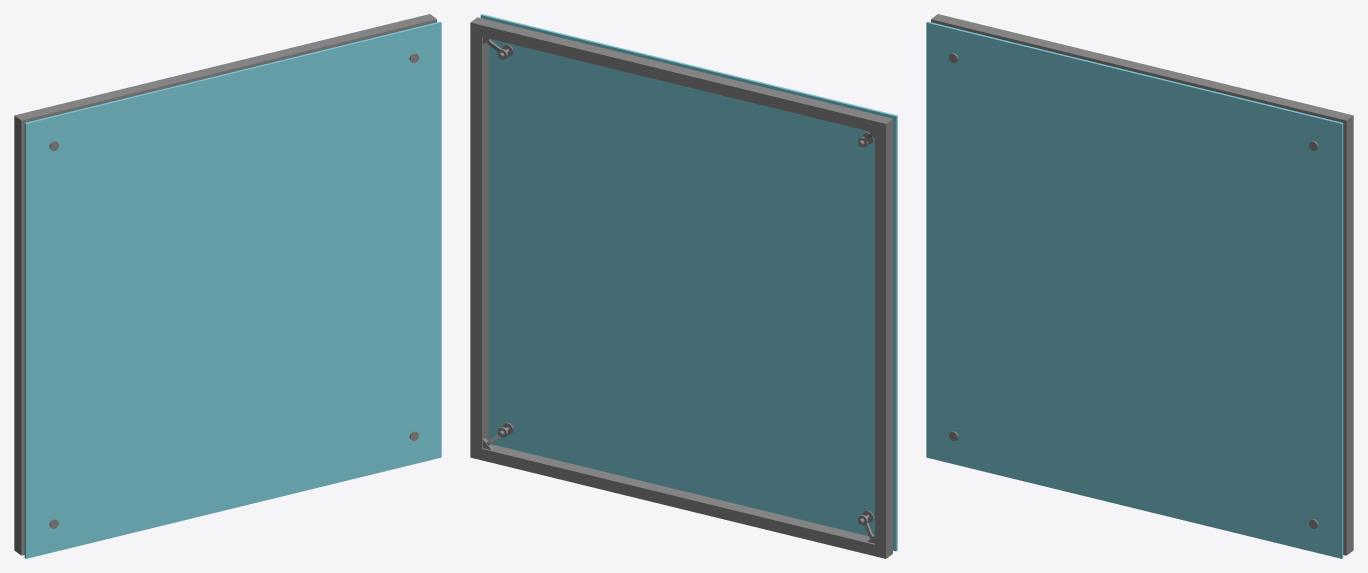
File: CP_GlassWall_01a_snaps019.fbx
The picture shows the model from 3 angles, left to right: view 1: azimuth 30°, elevation 25°; view 2: azimuth 150°, elevation 25°; view 3: azimuth 330°, elevation 25°; orthographic projection.
Parts seen in each view (by area): view 1: CP_GlassWall_01a_snaps019_LOD0; view 2: CP_GlassWall_01a_snaps019_LOD0; view 3: CP_GlassWall_01a_snaps019_LOD0.
Boxes of the visible parts, <box> form: CP_GlassWall_01a_snaps019_LOD0: <box>14,14,441,558</box>; CP_GlassWall_01a_snaps019_LOD0: <box>470,14,897,558</box>; CP_GlassWall_01a_snaps019_LOD0: <box>926,14,1353,558</box>.
Size of what is drawn, in the model's own units: 400 by 400 by 21.01.
